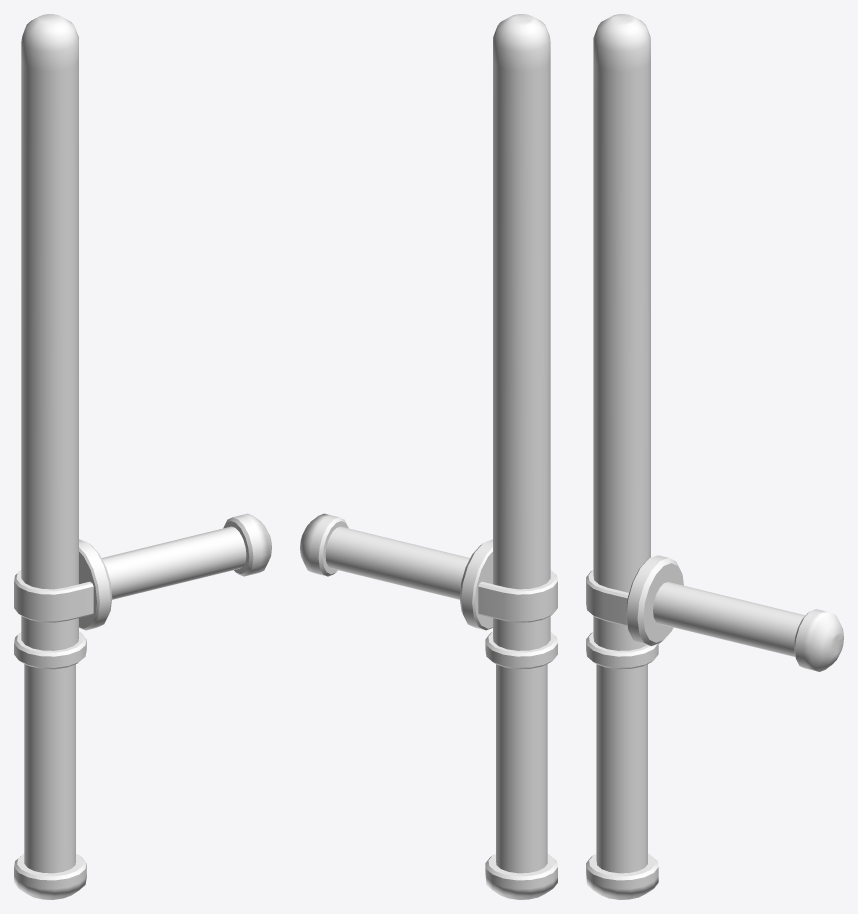
File: MeleeWeaponAgent_PoliceStick.fbx
The picture shows the model from 3 angles, left to right: view 1: azimuth 30°, elevation 25°; view 2: azimuth 150°, elevation 25°; view 3: azimuth 330°, elevation 25°; orthographic projection.
Visible parts, largest first — view 1: PoliceStick; view 2: PoliceStick; view 3: PoliceStick.
Part boxes in pixels (x1,y1,x2,y2): PoliceStick: (14, 14, 271, 899); PoliceStick: (300, 14, 557, 899); PoliceStick: (586, 14, 843, 899).
Size of the model in its own units: 0.3542 by 1.2 by 0.1127.
